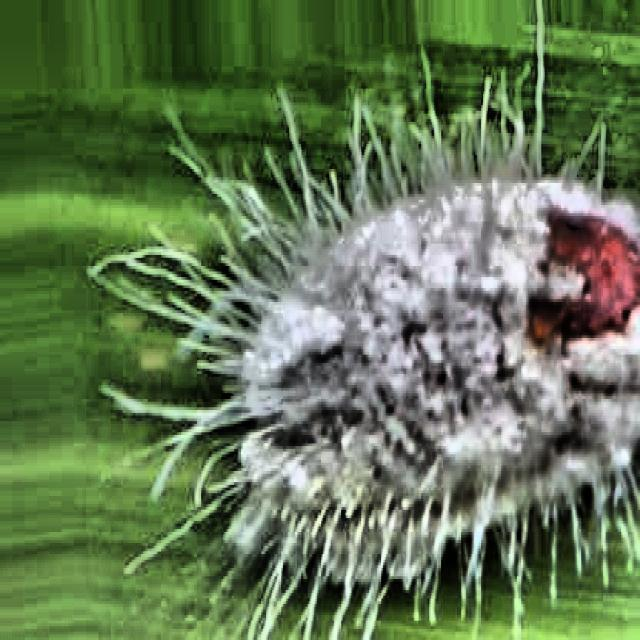Mealy-bug: (126, 37, 640, 632)
